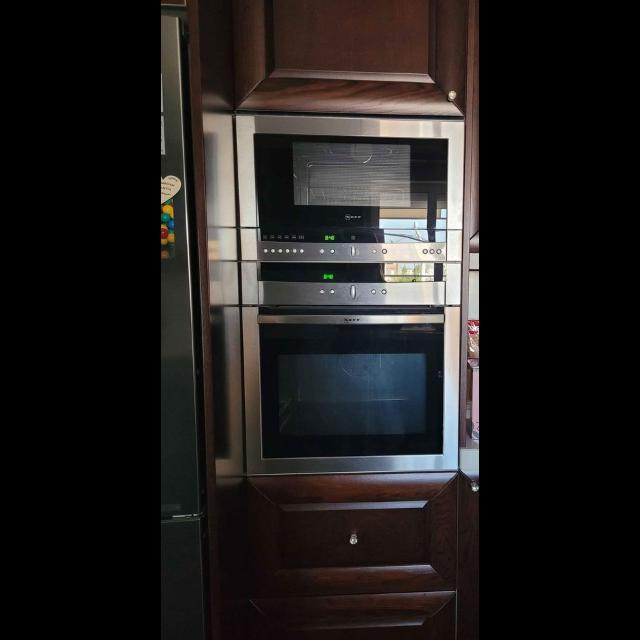Oven: (239, 114, 469, 476)
